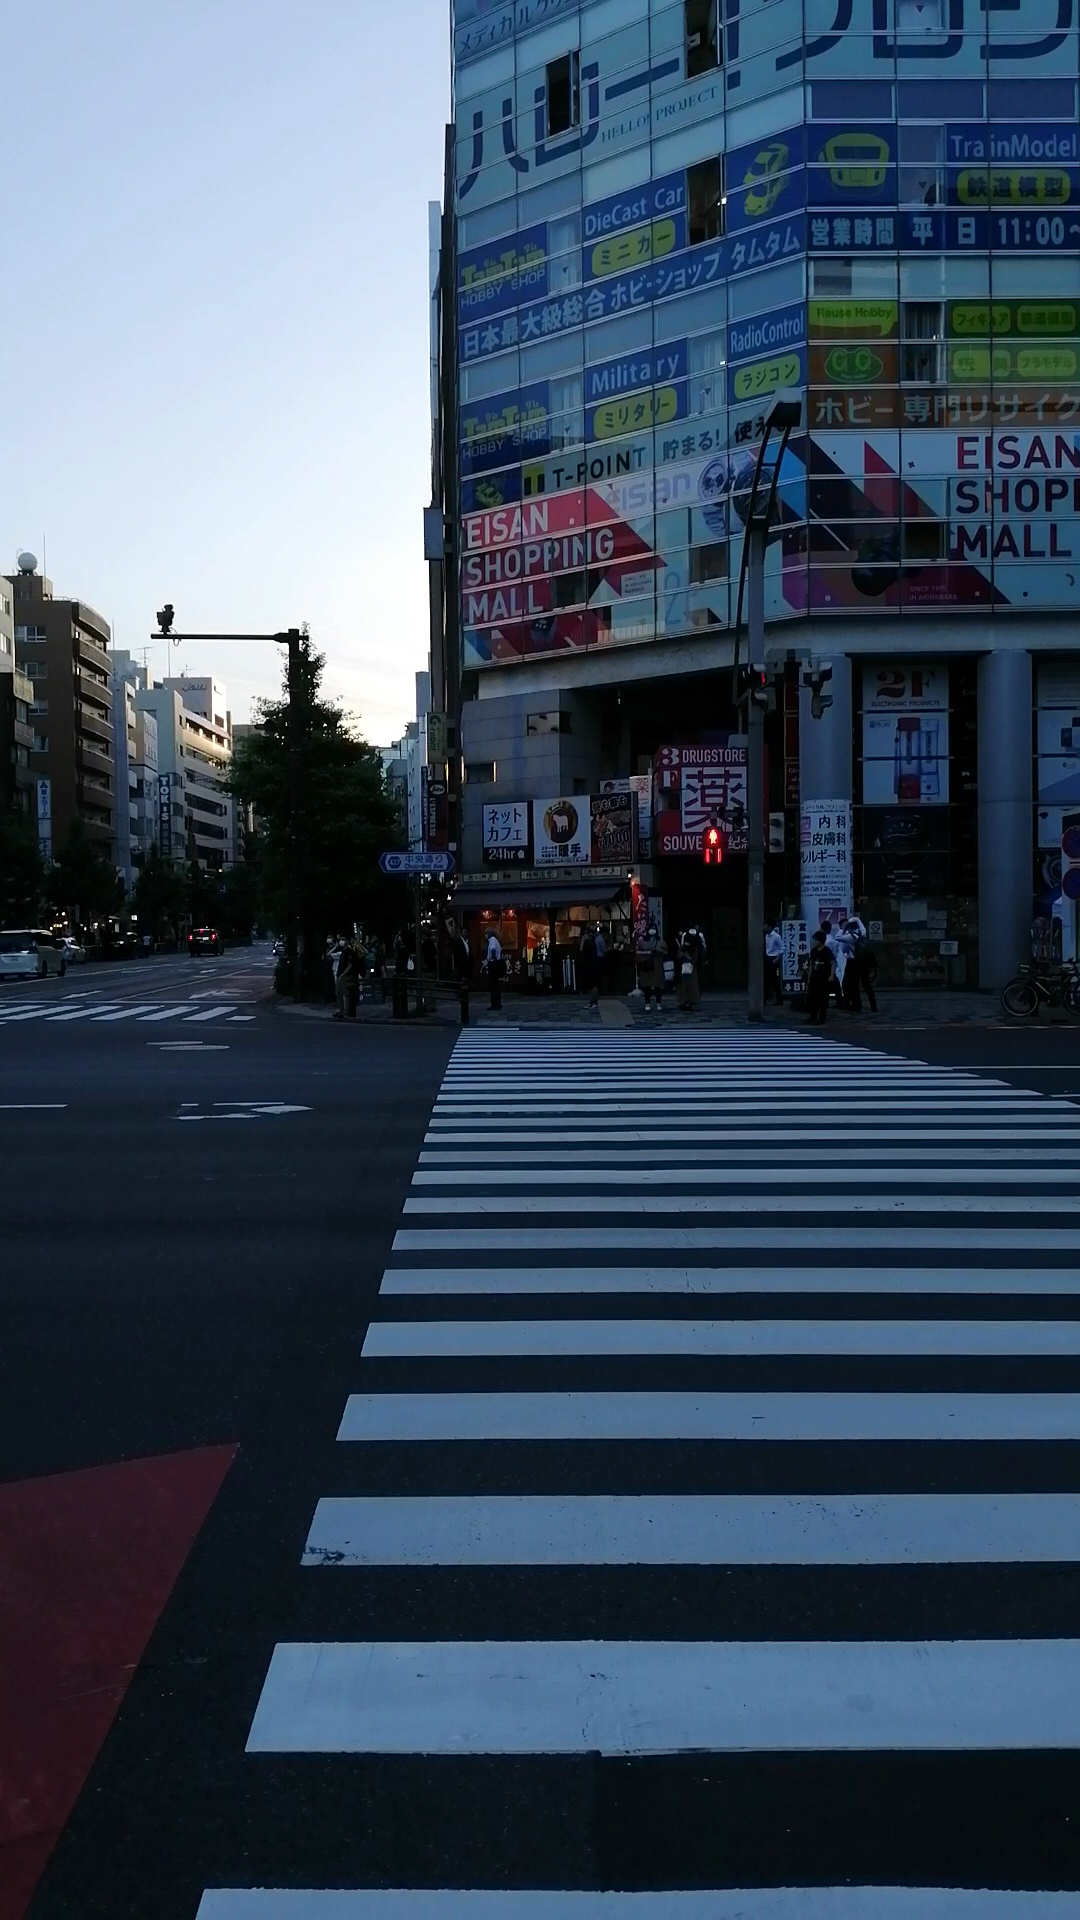red: (702, 824, 724, 870)
